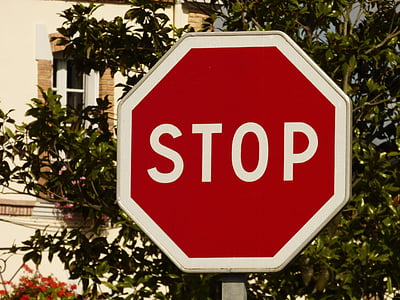stop: (131, 48, 335, 258)
